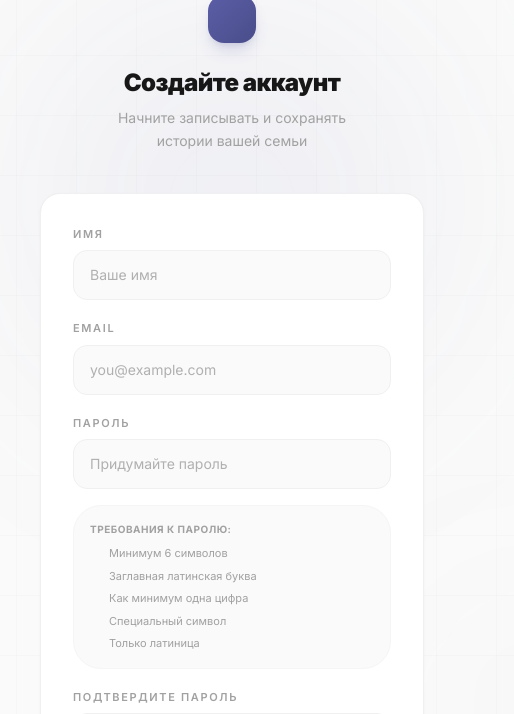
Test case: RegisterPage › shows error for short password
The width and height of the screenshot is (514, 714).
Type "Test" into the field with placeholder "Ваше имя" at (232, 275), box [73,250,391,300]
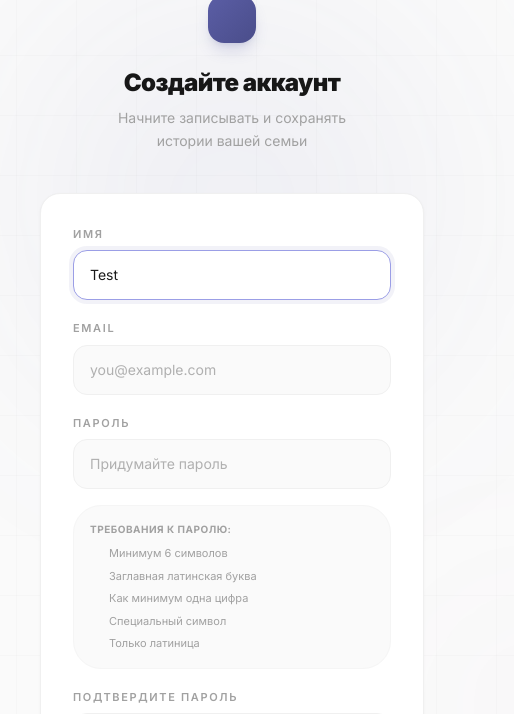
Type "test@example.com" into the field with placeholder "you@example.com" at (232, 370), box [73,344,391,394]
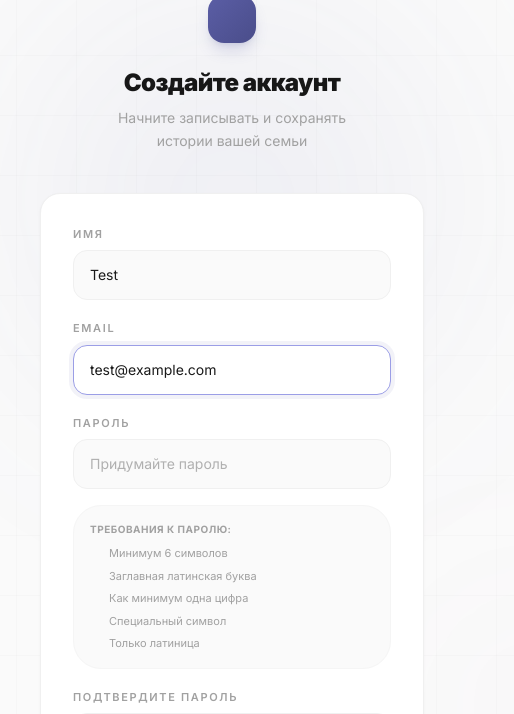
Type "12345" into the password field with placeholder "Придумайте пароль" at (232, 464), box [73,439,391,489]
(page scrolled)
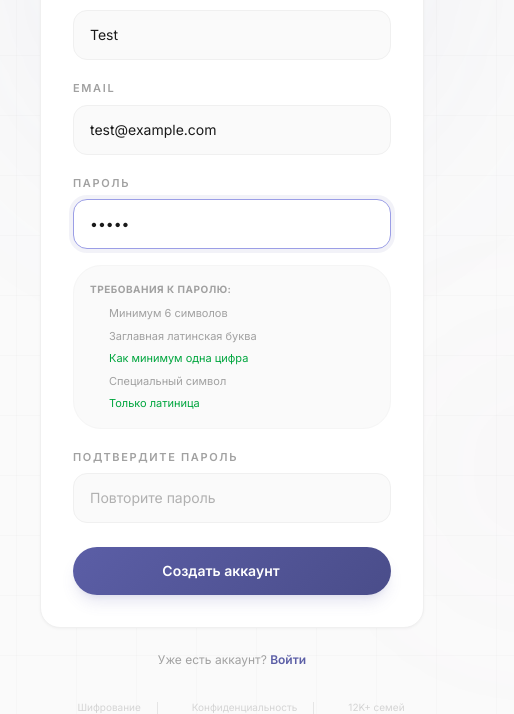
Type "12345" into the password field with placeholder "Повторите пароль" at (232, 498), box [73,473,391,523]
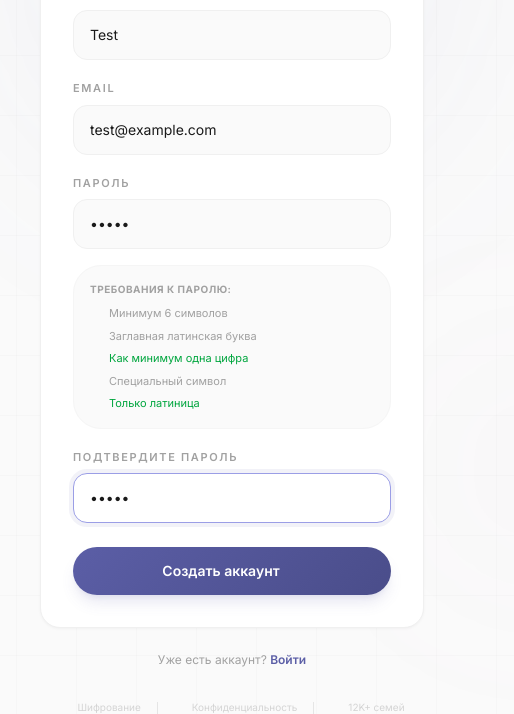
Click the button "Создать аккаунт" at (232, 571), box [73,547,391,595]
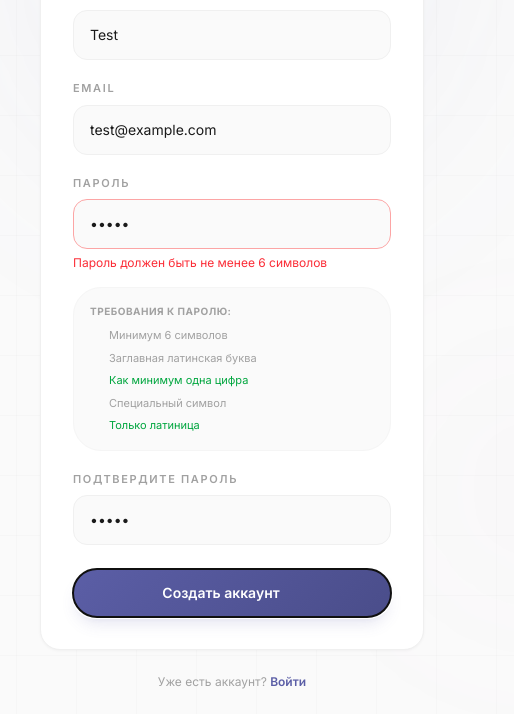
Expected: the text "Пароль должен быть не менее 6 символов" is shown, [73,255,327,270]
